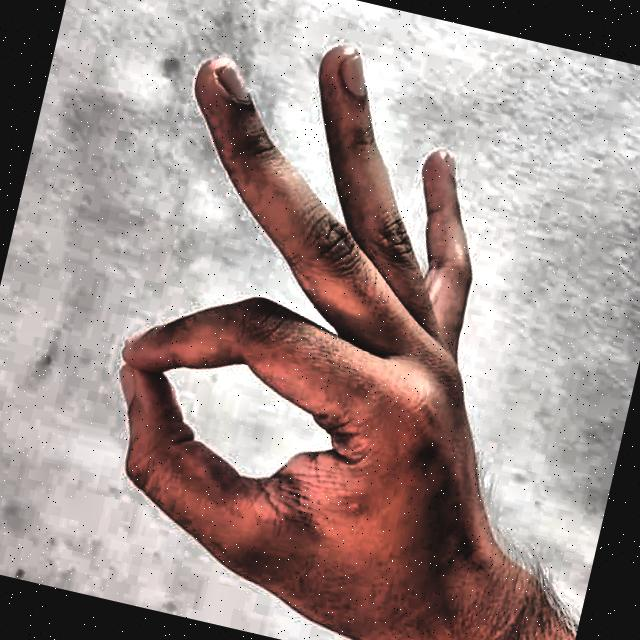Ca: (39, 0, 626, 640)
